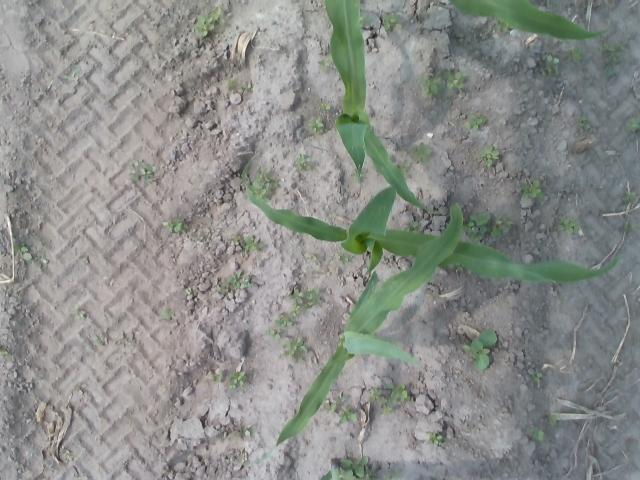Maize: (241, 152, 619, 284), (274, 204, 464, 447), (324, 0, 444, 216), (448, 0, 612, 40), (319, 457, 349, 480)
Weeds: (266, 304, 301, 340), (603, 34, 629, 80), (472, 326, 498, 372), (62, 64, 88, 94), (279, 338, 309, 364), (468, 212, 490, 242), (344, 457, 372, 477), (538, 56, 560, 77), (227, 269, 250, 289), (329, 391, 349, 414), (491, 218, 514, 236), (479, 146, 501, 164), (338, 406, 358, 425), (254, 174, 273, 193), (130, 160, 150, 178), (381, 11, 399, 30), (163, 218, 187, 232), (304, 290, 322, 308), (198, 16, 214, 36), (228, 370, 246, 387), (426, 77, 441, 97), (411, 144, 432, 158), (449, 70, 465, 88), (292, 155, 312, 168), (210, 8, 226, 24), (391, 386, 408, 400), (466, 116, 486, 127), (308, 118, 323, 132), (560, 218, 575, 232), (370, 386, 383, 402), (528, 369, 544, 382), (246, 235, 262, 248), (428, 432, 442, 446), (291, 287, 305, 301), (16, 243, 29, 258), (529, 180, 541, 196), (158, 308, 172, 320), (629, 117, 640, 132), (362, 12, 372, 28), (624, 192, 636, 204), (228, 234, 240, 246), (578, 116, 589, 129), (404, 222, 418, 232), (624, 223, 636, 234), (533, 425, 544, 437), (93, 335, 104, 346), (226, 79, 237, 90), (568, 51, 580, 61), (0, 347, 11, 357), (548, 415, 558, 425), (382, 403, 393, 412), (319, 102, 331, 110), (212, 373, 222, 382), (77, 310, 87, 318), (338, 253, 348, 261), (324, 57, 330, 68), (310, 253, 318, 260)
